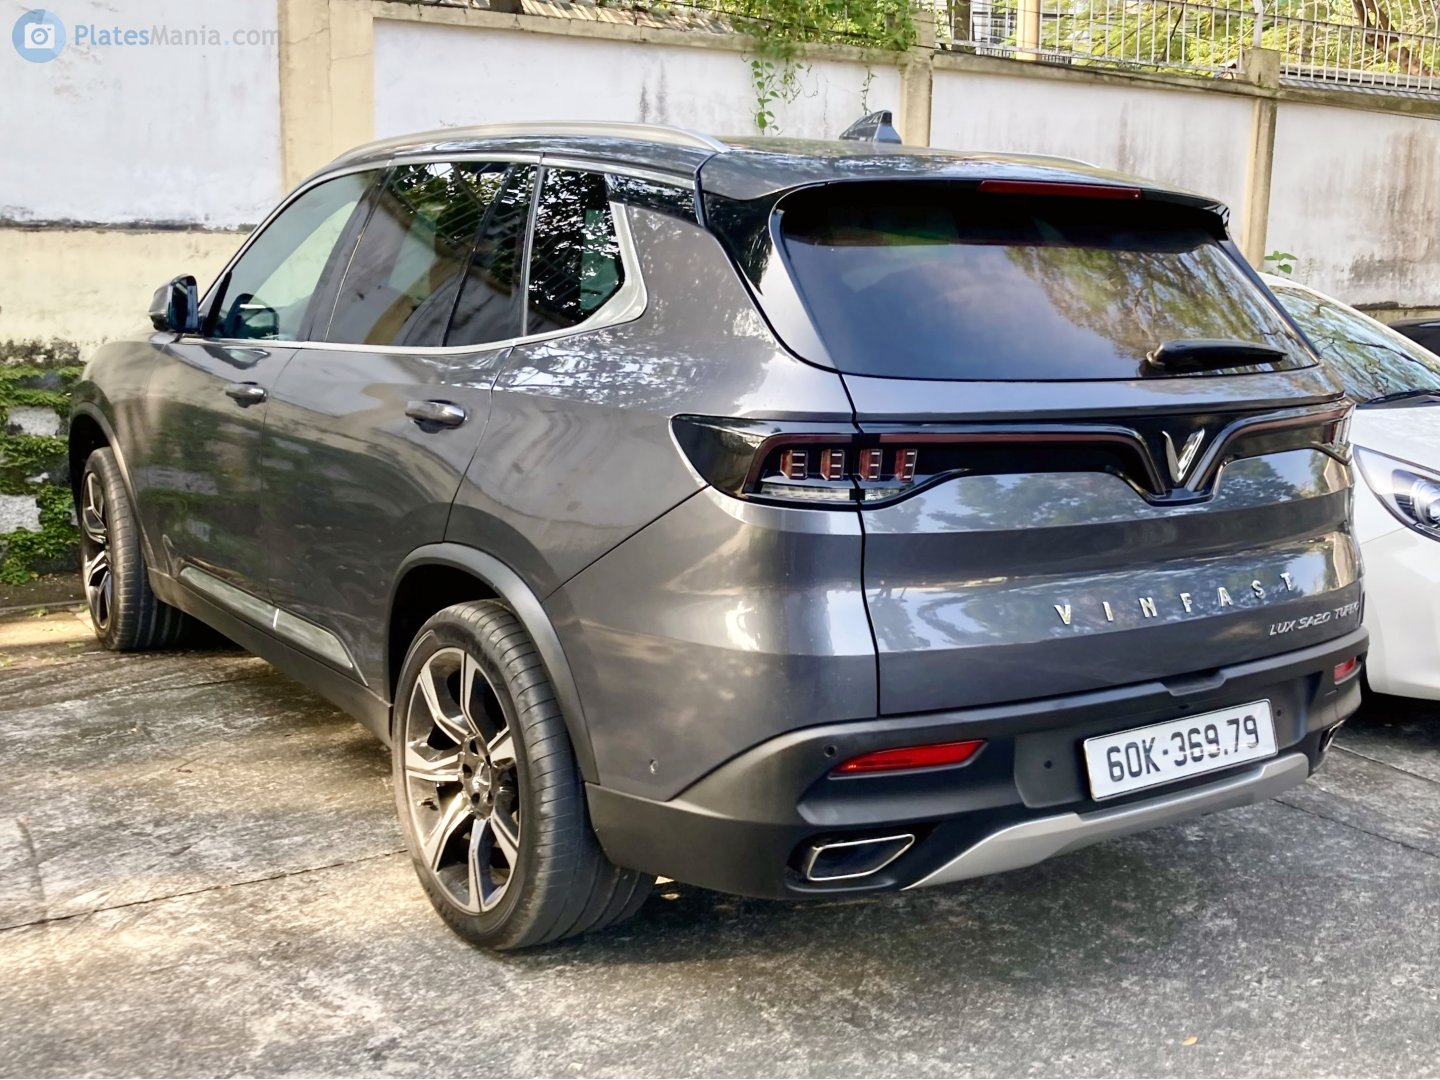bien_so: (1084, 701, 1277, 800)
